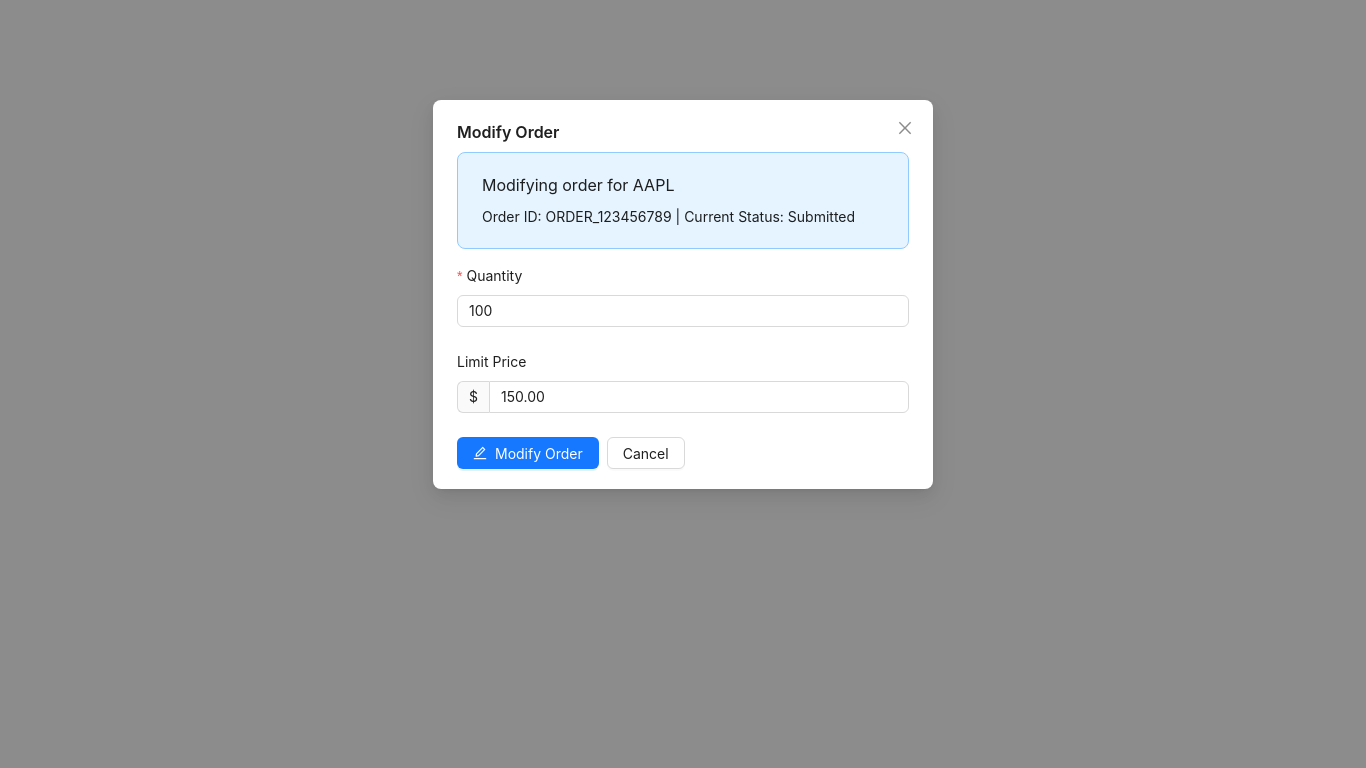
OrderModificationModal › should validate required quantity field
The image size is (1366, 768).
Clear quantity field
Clear the number field showing "100". click: (683, 311)
box: top-left (458, 296), bottom-right (908, 326)
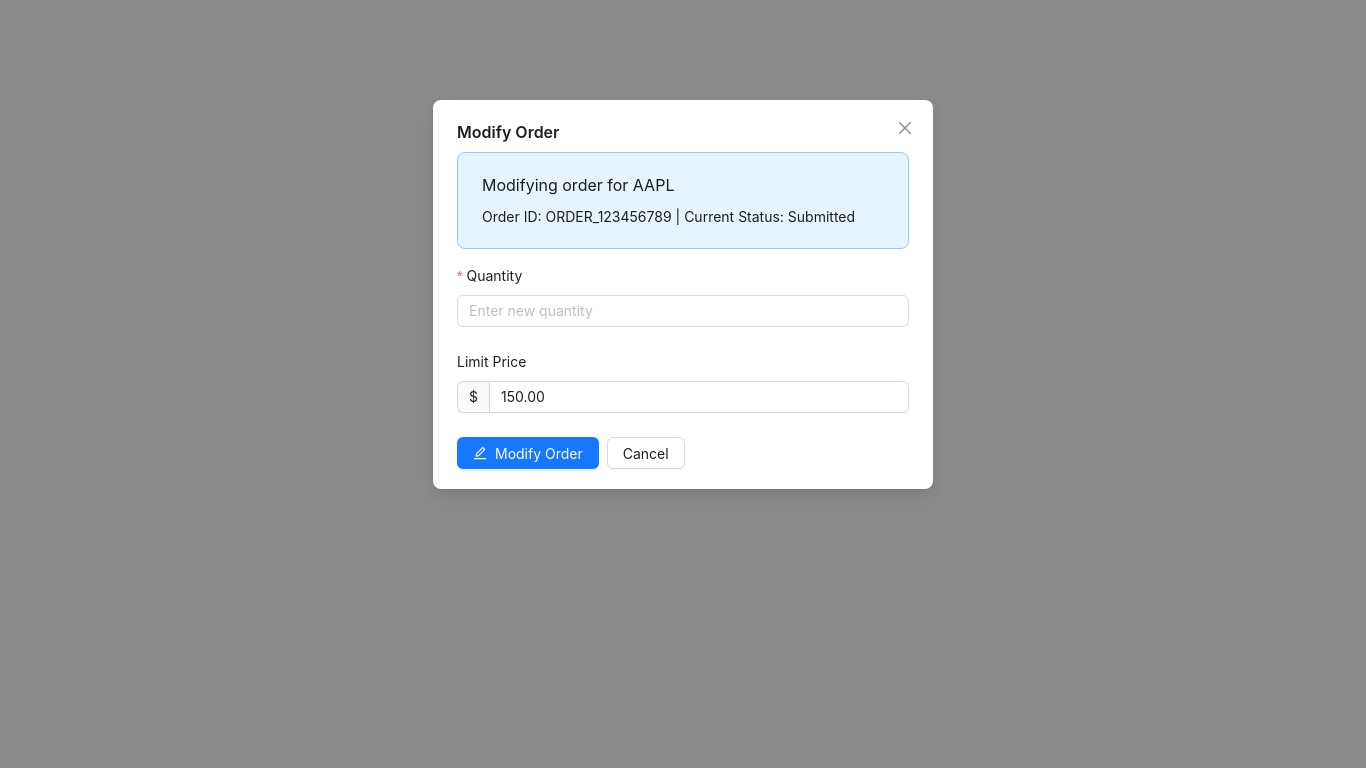
Try to submit
Click the button "Modify Order". click: (528, 453)
box: top-left (457, 437), bottom-right (599, 469)
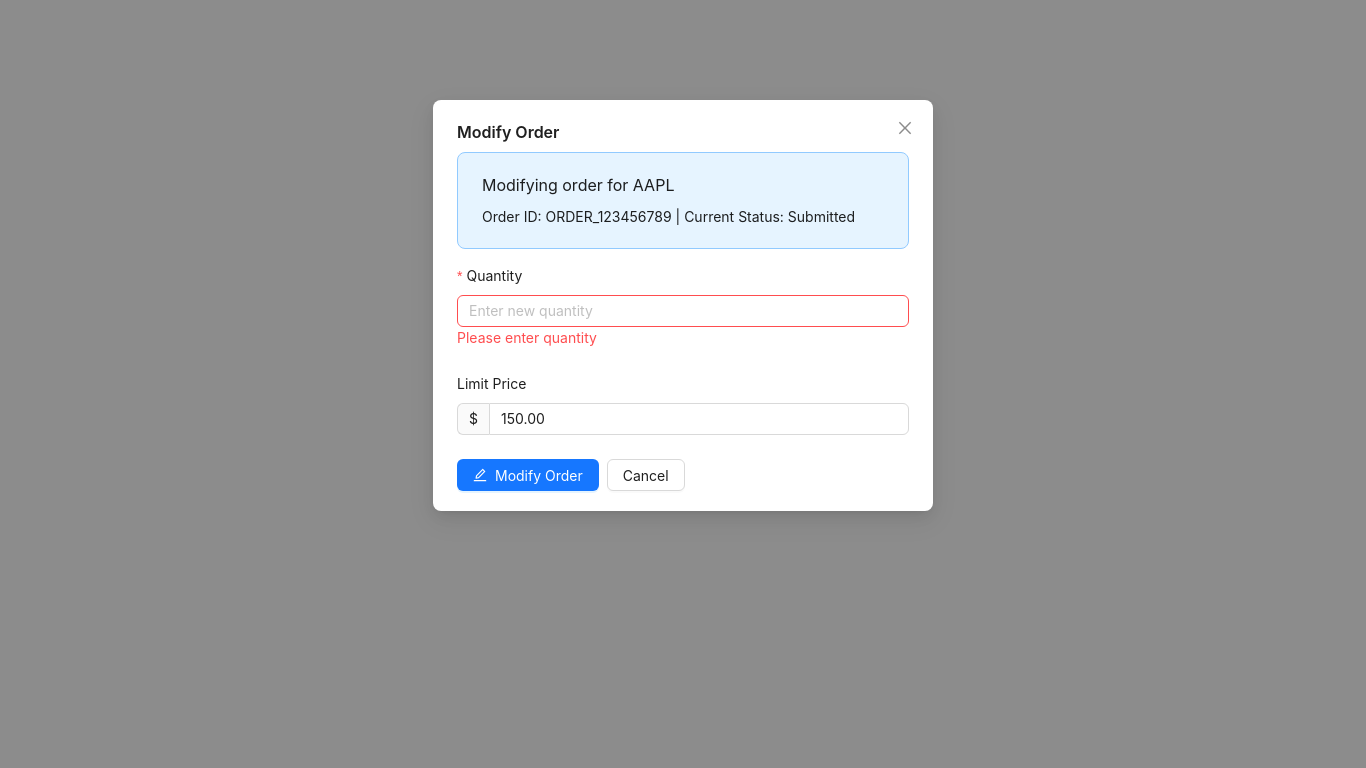
expect the text "Please enter quantity" is shown: met, box top-left (457, 329), bottom-right (597, 346)
